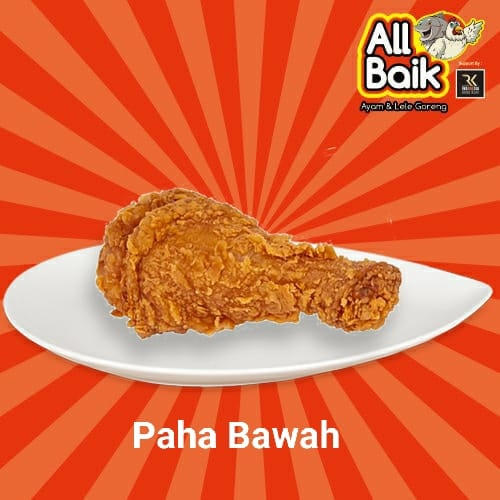ayam_goreng: (92, 177, 410, 354)
